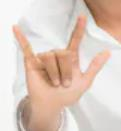back: (9, 13, 114, 110)
